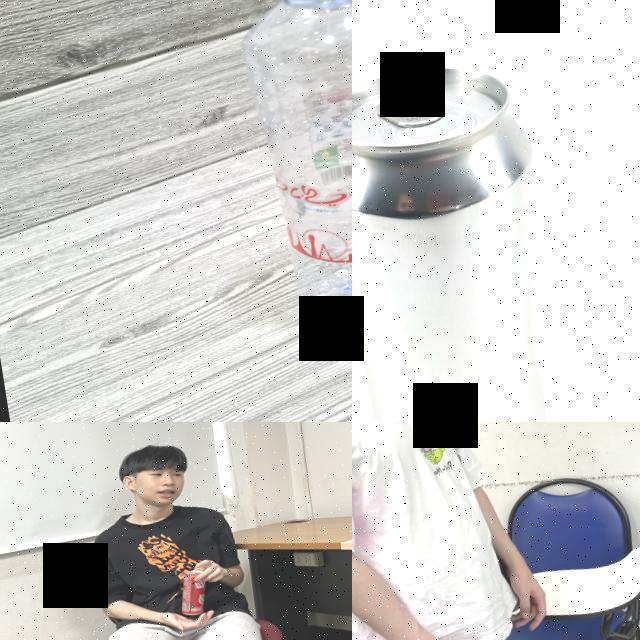bottle: (214, 0, 352, 344)
can: (352, 52, 592, 422), (176, 566, 211, 618)
